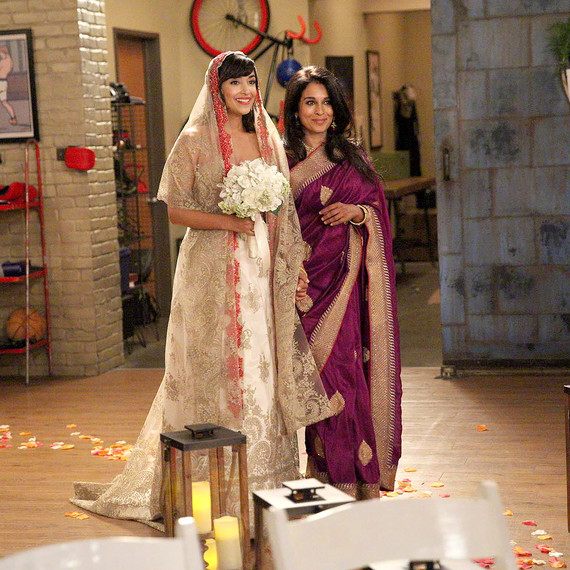person: (272, 58, 417, 480), (162, 49, 293, 483)
